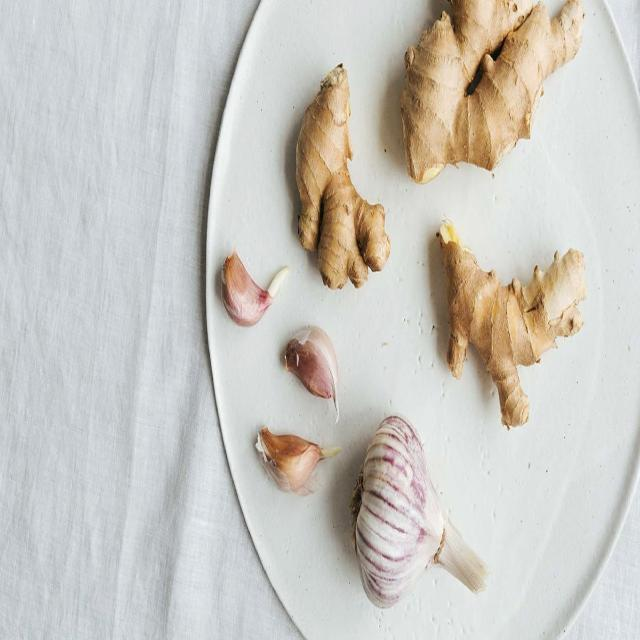garlic: (349, 397, 488, 631)
ginger: (397, 0, 595, 180), (435, 220, 594, 429), (291, 57, 397, 293)
